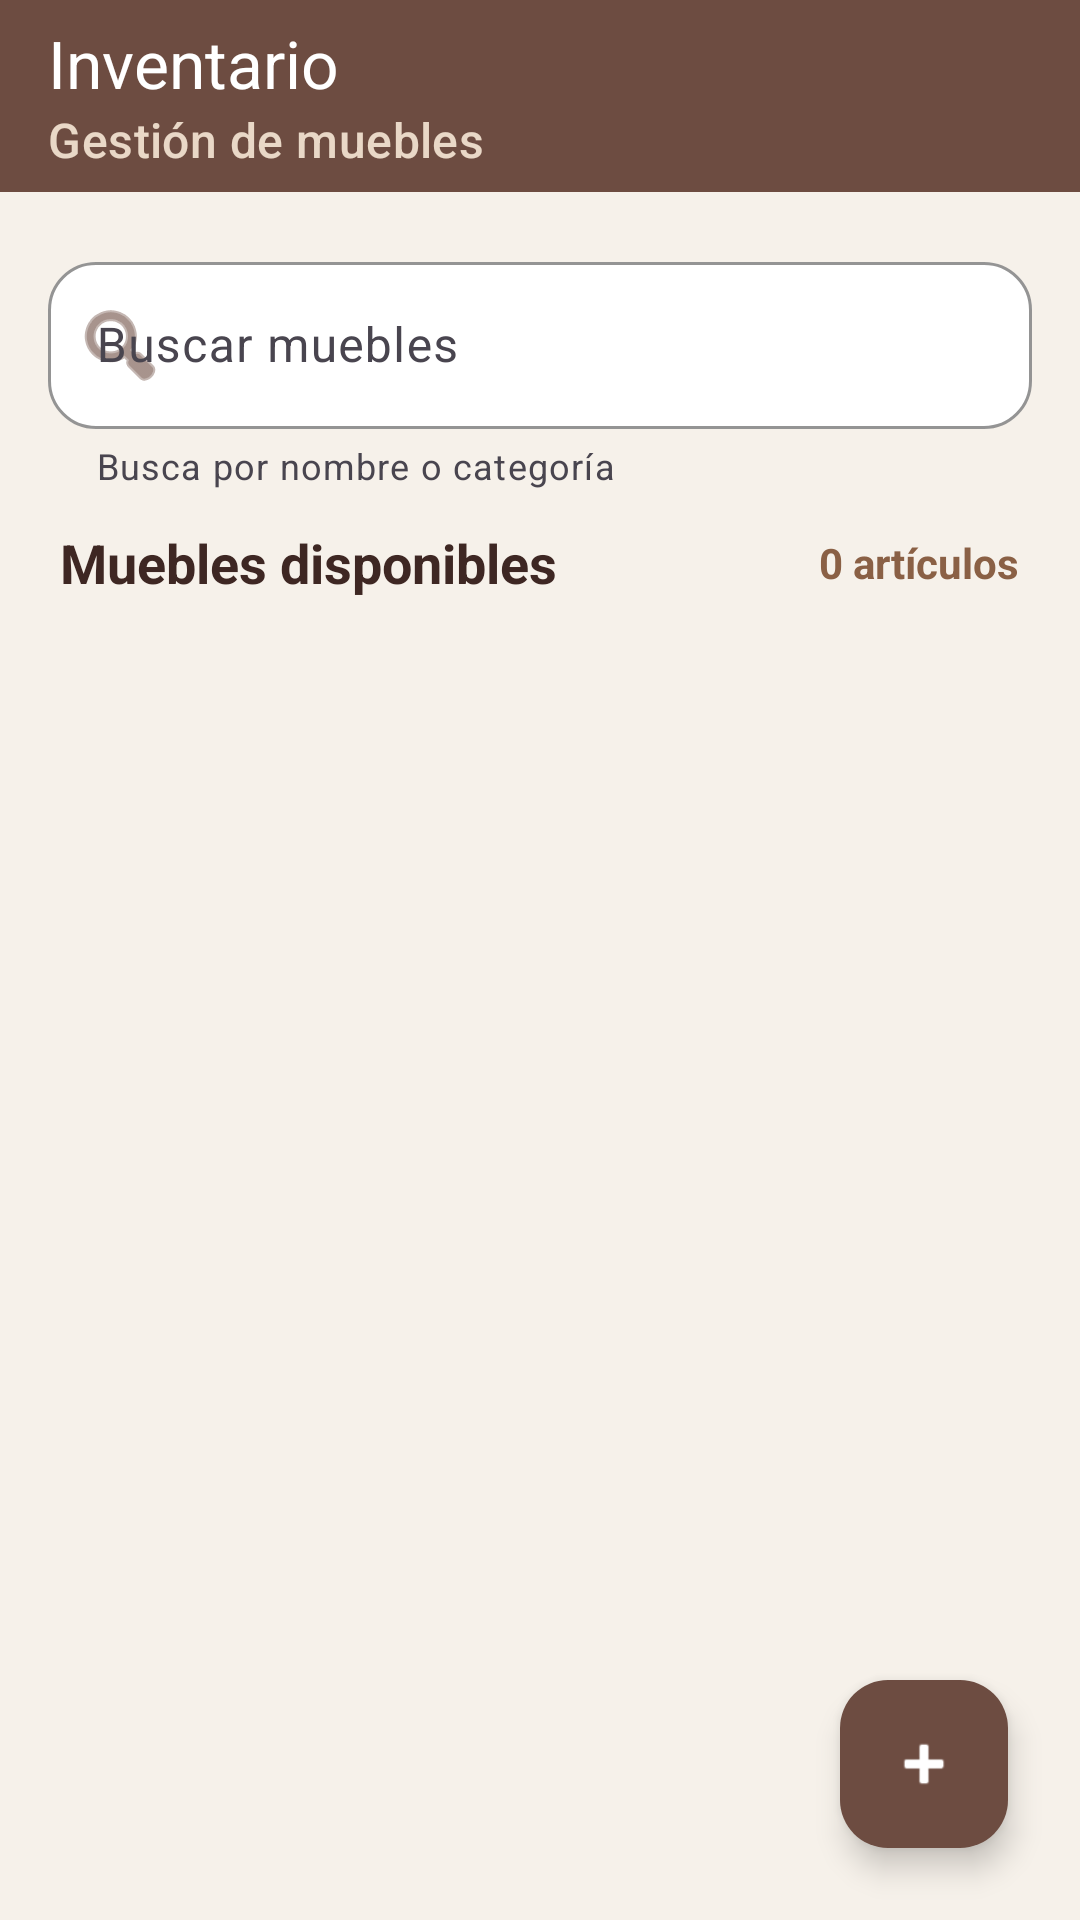

Screen size 1080w x 1920h. Icon name, then its center in pixels as (x,y):
Agregar artículo: (924,1764)
